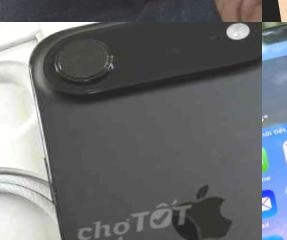scratch: (262, 25, 287, 58)
